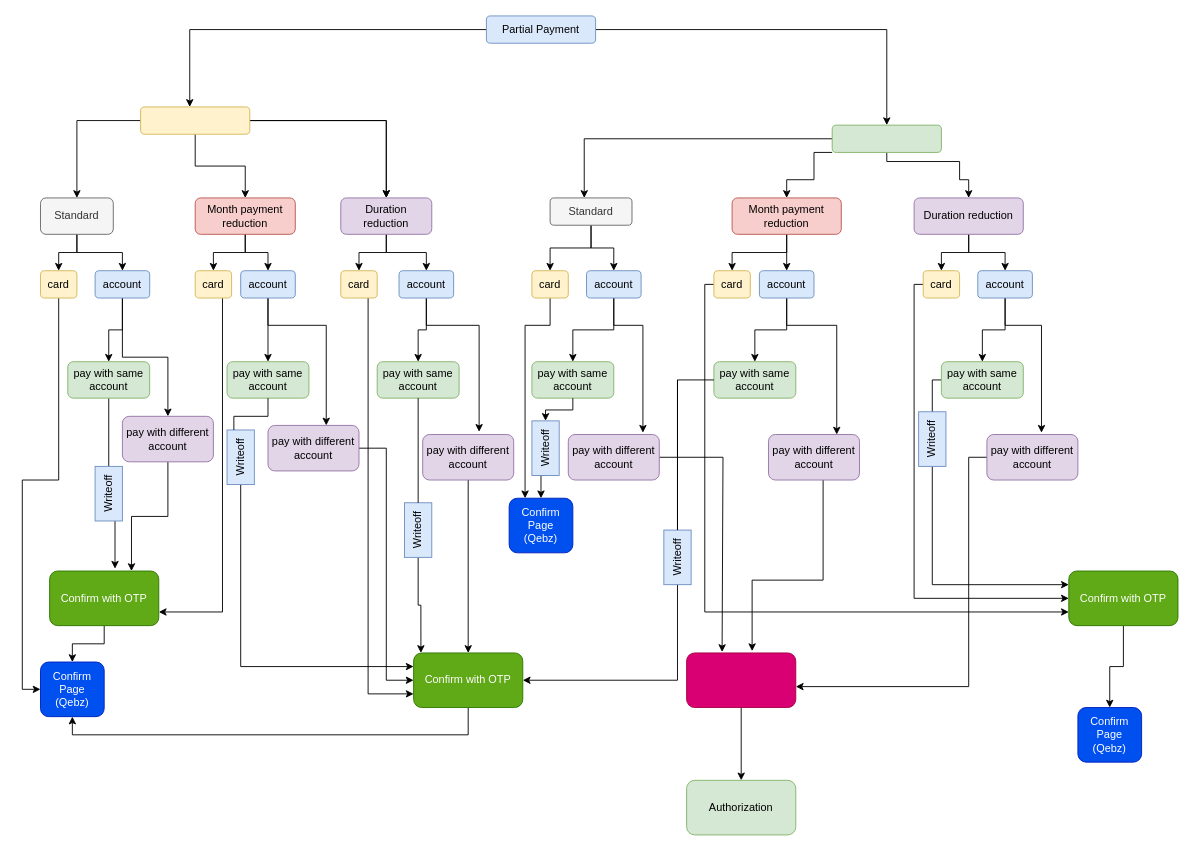
This 1194x851 diagram has some shape labels left out. The shapes that lost their labels are listed below. From the top down, each one's centre as x and y in pixels, then its label:
the point at 195,120: Individual
the point at 886,138: Juridical
the point at 741,680: Confirm with ASAN
